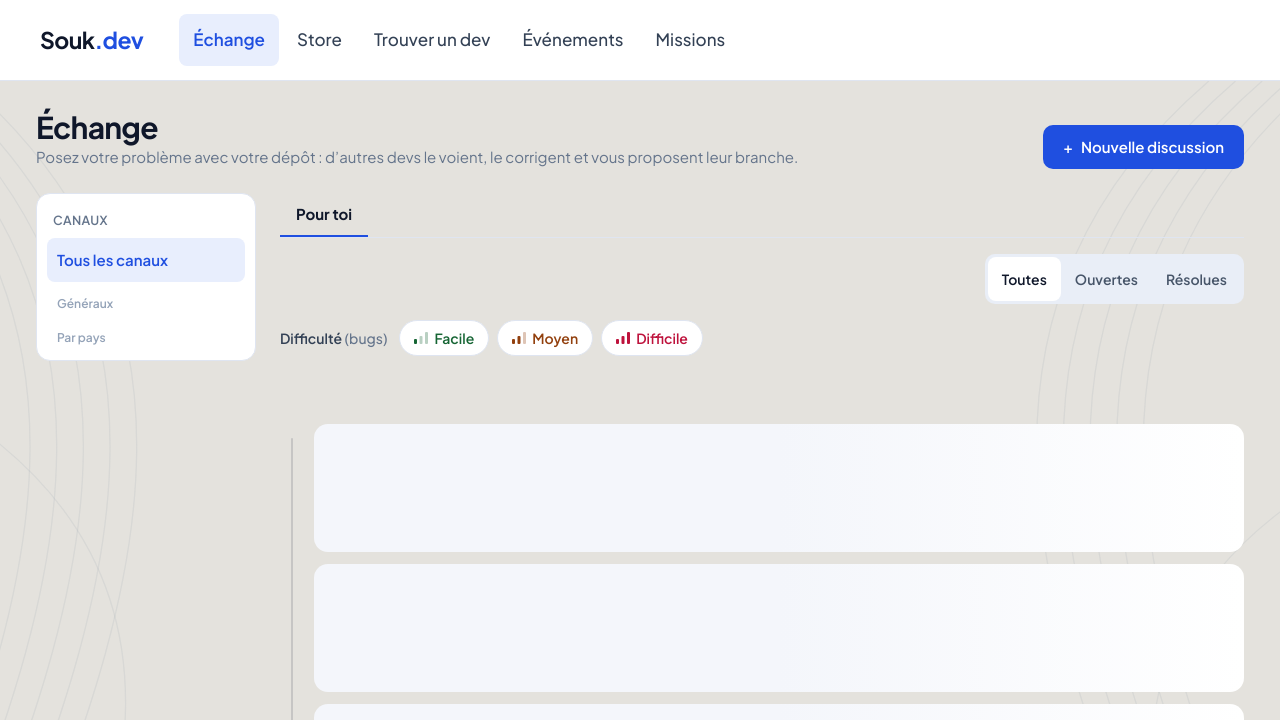
Test: socle › marque le lien Store quand on est sur le Store
Expected: the heading "Échange" is shown, [36, 108, 158, 146]
Step 1. Click the link "Store" → point(320, 39), box [297, 28, 342, 50]
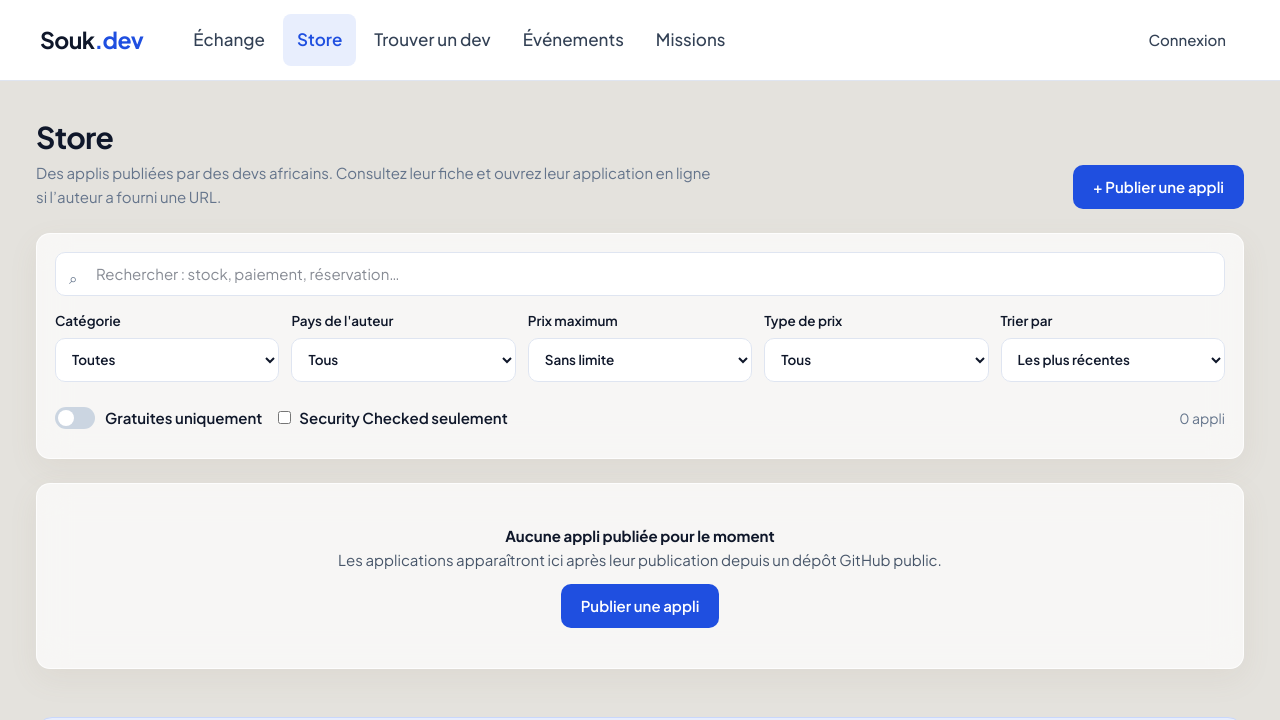
Now the heading "Store" is shown, box [36, 118, 113, 156]
